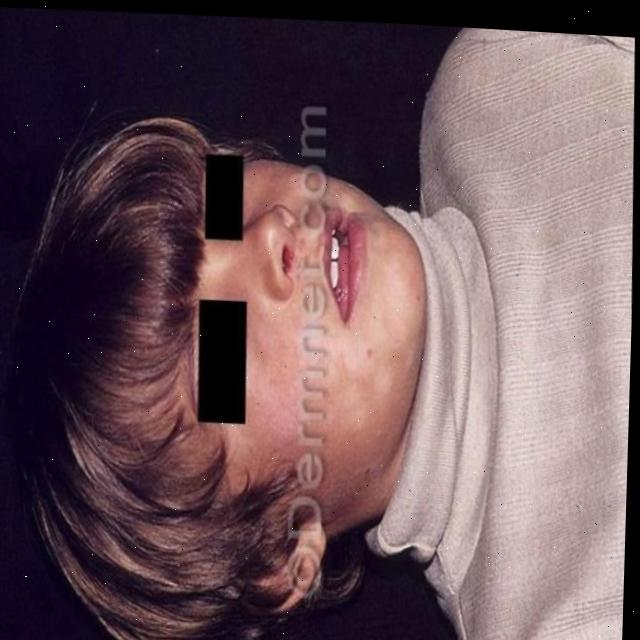Eczema: (261, 325, 415, 495), (364, 224, 419, 322), (327, 161, 365, 193)
